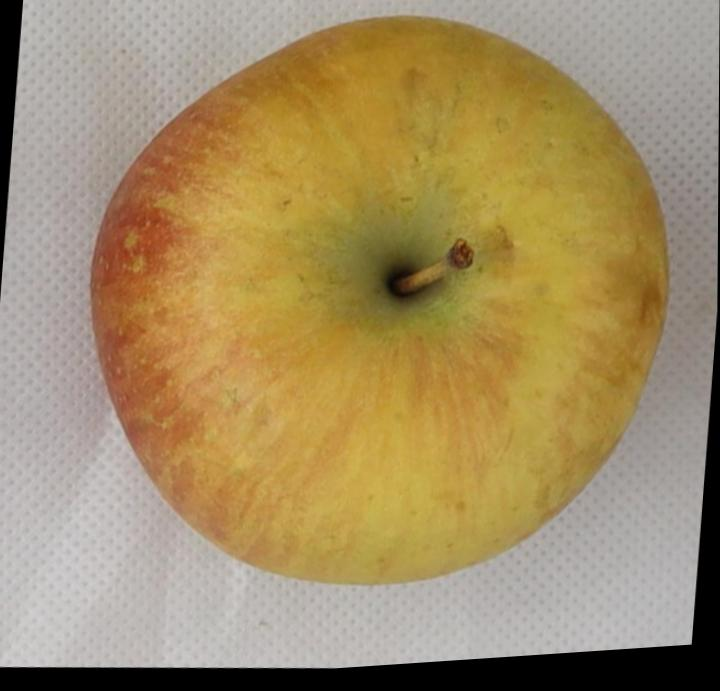apple: (93, 16, 669, 582)
bruise_discoloration: (176, 47, 667, 578)
